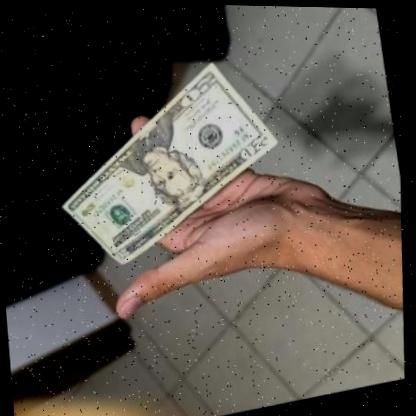twenty-front: (31, 44, 306, 282)
